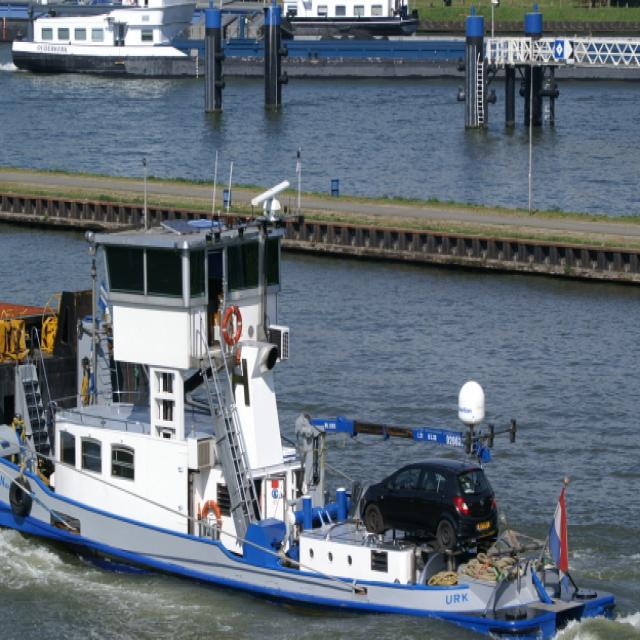tugboat: (1, 179, 623, 640)
